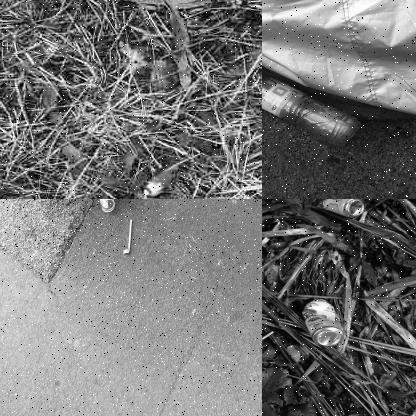glass: (96, 199, 115, 215)
metal: (297, 296, 349, 352), (307, 199, 371, 220)
plastic: (262, 68, 365, 156), (140, 171, 217, 198)
